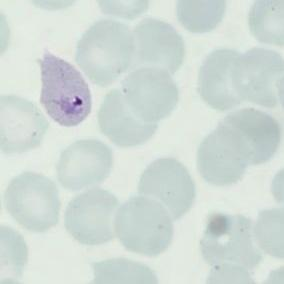Infected: (35, 48, 93, 129)
Uninfected: (138, 155, 196, 218), (201, 213, 263, 270), (77, 18, 132, 82), (117, 194, 174, 255), (220, 108, 281, 164), (6, 171, 61, 232), (64, 187, 119, 246), (129, 18, 184, 77), (56, 138, 116, 192), (197, 45, 248, 108), (96, 90, 153, 145), (231, 48, 284, 106), (122, 66, 177, 119), (0, 94, 50, 152), (197, 128, 246, 187)
